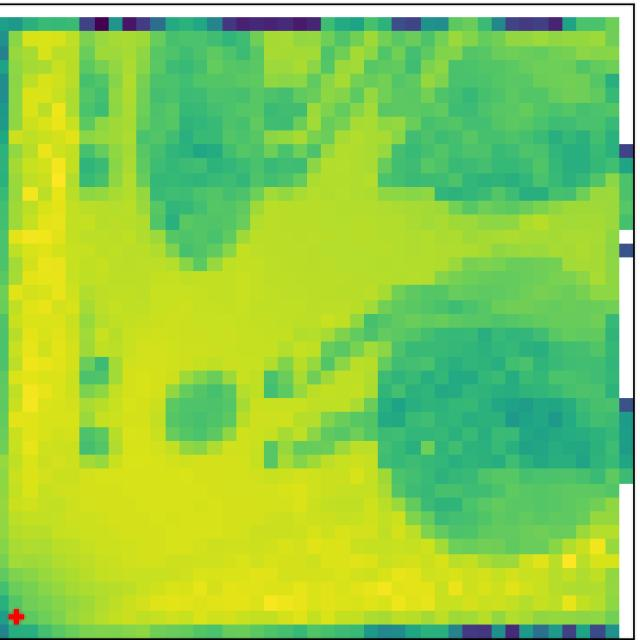Concrete: (395, 47, 601, 205)
Glass: (129, 44, 266, 254)
Metal: (388, 299, 606, 506)
Wood: (167, 368, 239, 455)
